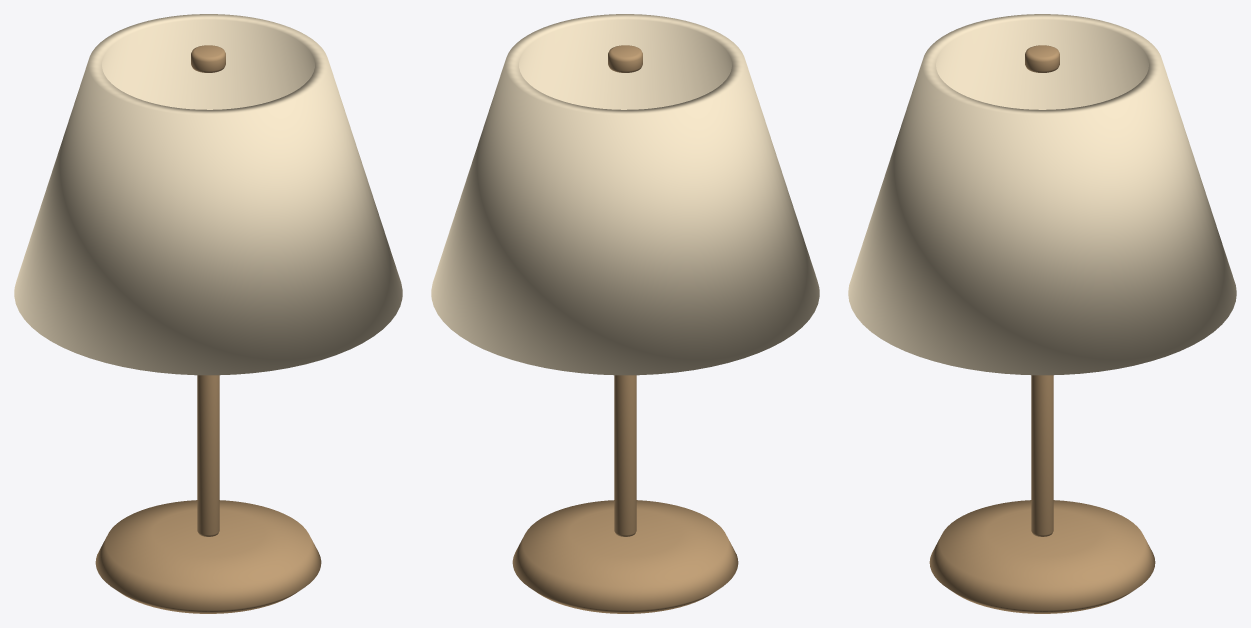
Rendered from hi3d-table-lamp_1.glb.
3 renders of one model, left to right at view 1: azimuth 30°, elevation 25°; view 2: azimuth 150°, elevation 25°; view 3: azimuth 270°, elevation 25°, orthographic.
Parts seen in each view (by area): view 1: table_lamp_mesh; view 2: table_lamp_mesh; view 3: table_lamp_mesh.
Boxes of the visible parts, x1,y1,x2,y2 form: table_lamp_mesh: [14, 14, 402, 613]; table_lamp_mesh: [431, 14, 819, 613]; table_lamp_mesh: [848, 14, 1236, 613].
Size of the model in its own units: 0.31 by 0.457 by 0.31.
